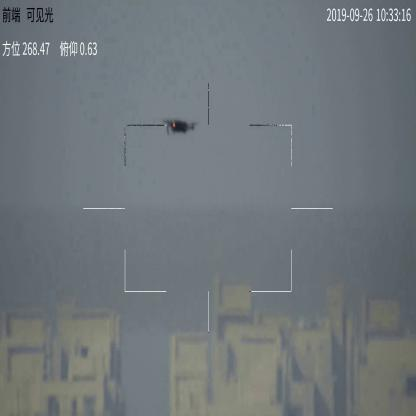uav: (162, 117, 199, 135)
